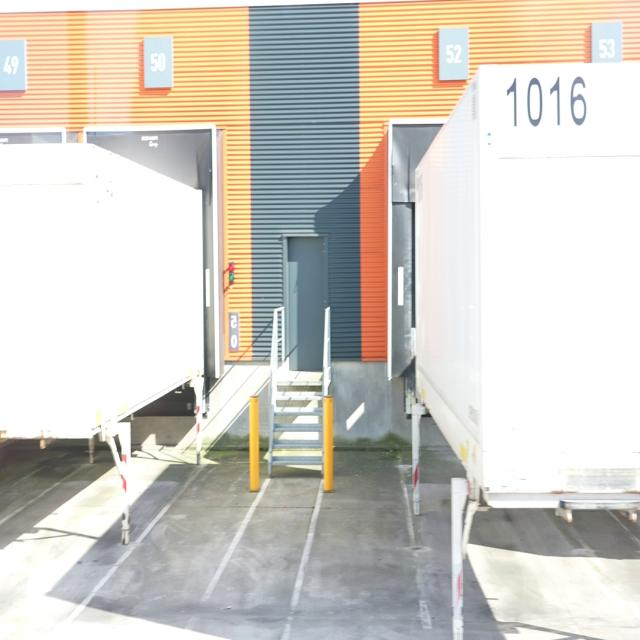Code: (501, 68, 593, 136)
